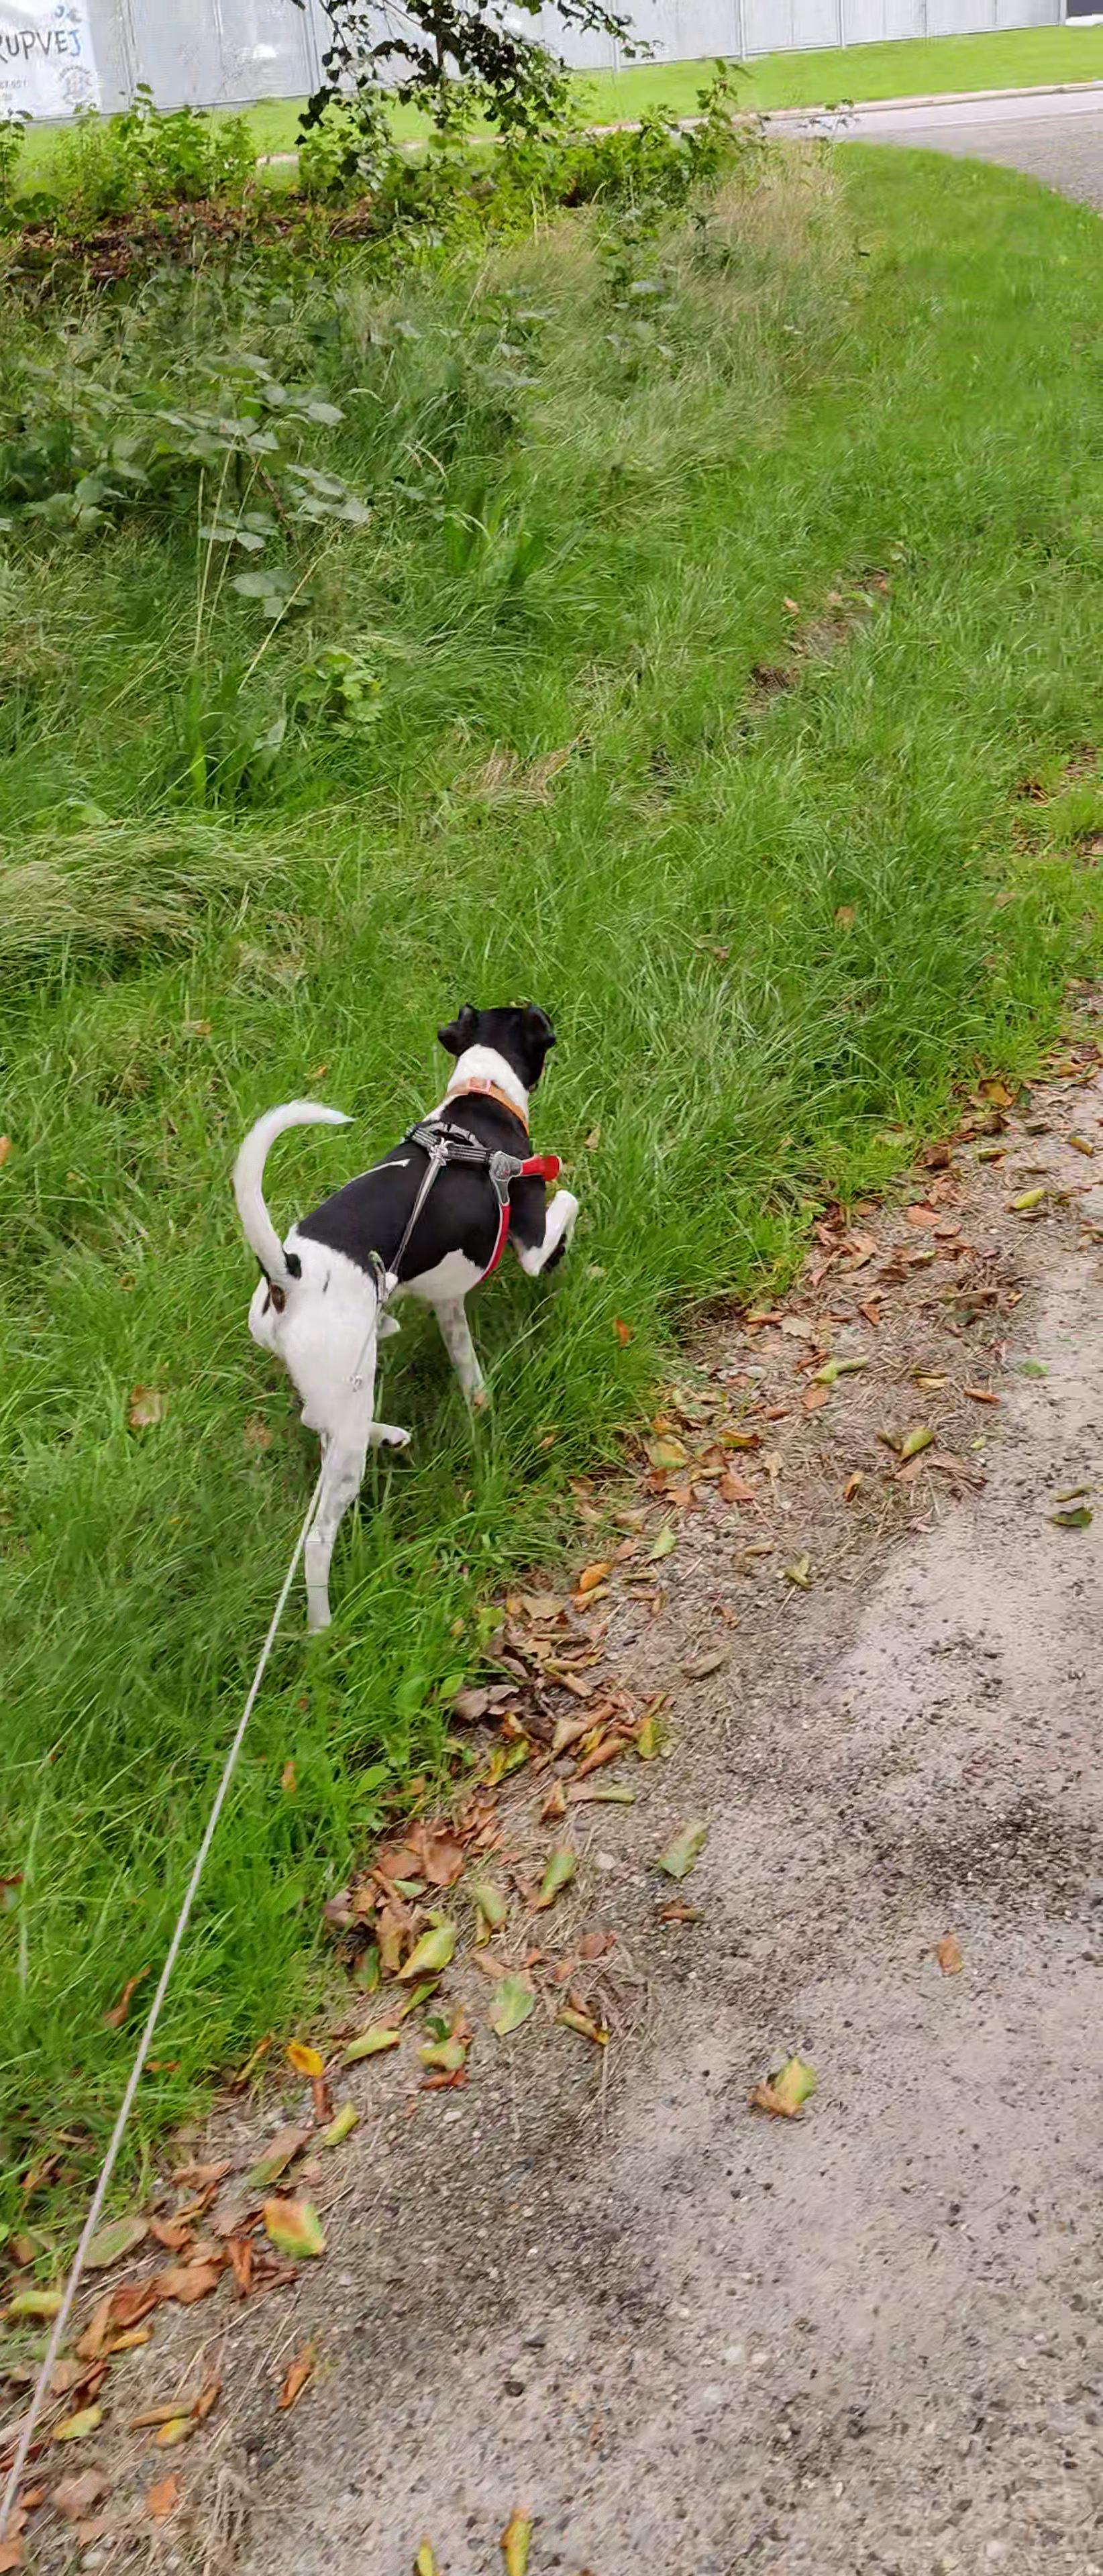Dog: (222, 992, 584, 1651)
